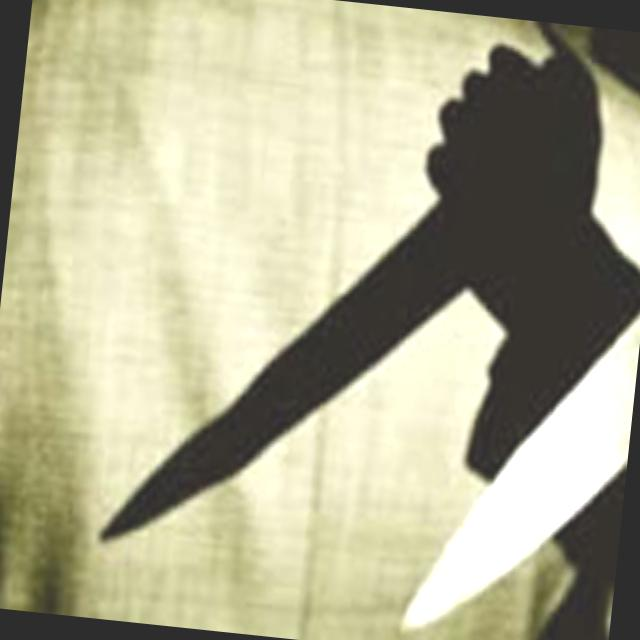knife: (383, 276, 639, 639)
